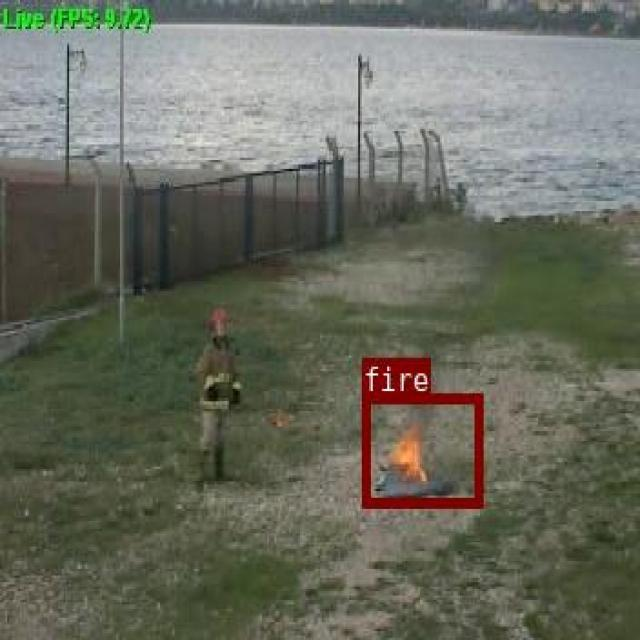fire: (362, 392, 481, 506)
